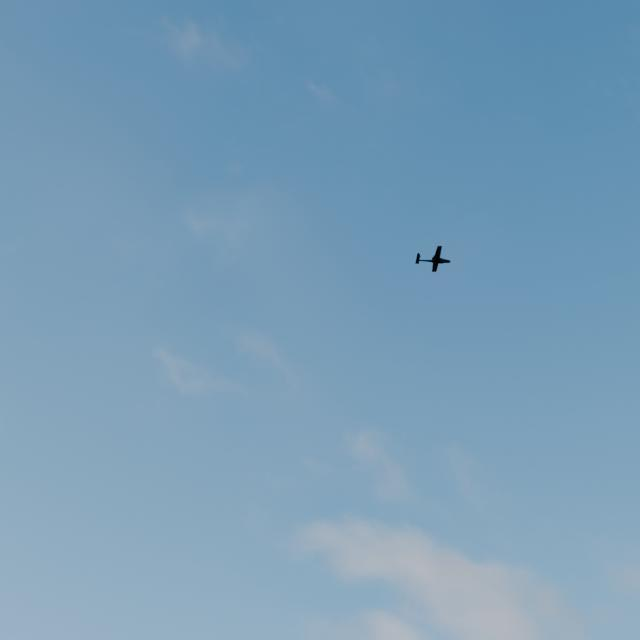Airaplan: (415, 246, 451, 272)
